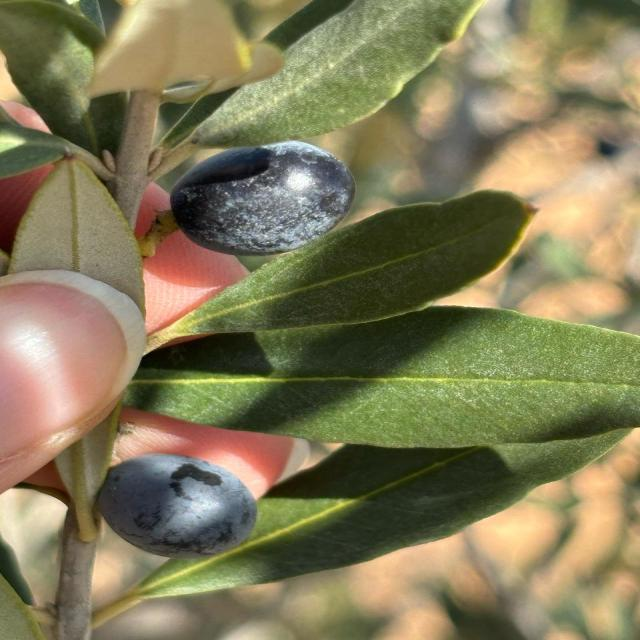Healthy: (125, 306, 639, 448), (148, 190, 537, 350), (170, 140, 355, 258), (97, 454, 255, 558)
